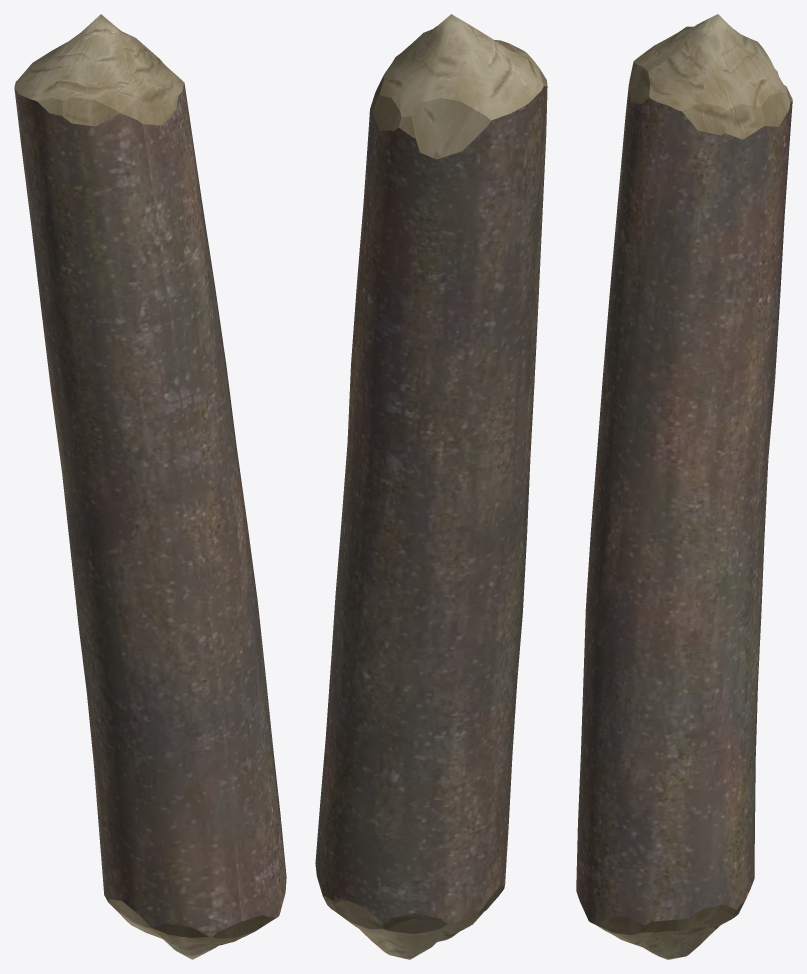
3 views of the same model, side by side, from view 1: azimuth 30°, elevation 25°; view 2: azimuth 150°, elevation 25°; view 3: azimuth 270°, elevation 25° (orthographic). The views are drawn at different scales.
Visible parts, largest first — view 1: SM_BM_Ash_Tree_01_quarter_04_LOD0; view 2: SM_BM_Ash_Tree_01_quarter_04_LOD0; view 3: SM_BM_Ash_Tree_01_quarter_04_LOD0.
Part boxes in pixels (bbox=[...]): SM_BM_Ash_Tree_01_quarter_04_LOD0: bbox=[14, 14, 286, 959]; SM_BM_Ash_Tree_01_quarter_04_LOD0: bbox=[315, 14, 547, 959]; SM_BM_Ash_Tree_01_quarter_04_LOD0: bbox=[576, 14, 792, 959].
Size of the model in its own units: 0.6232 by 2.51 by 0.5378.
1 material, 1 textured.
